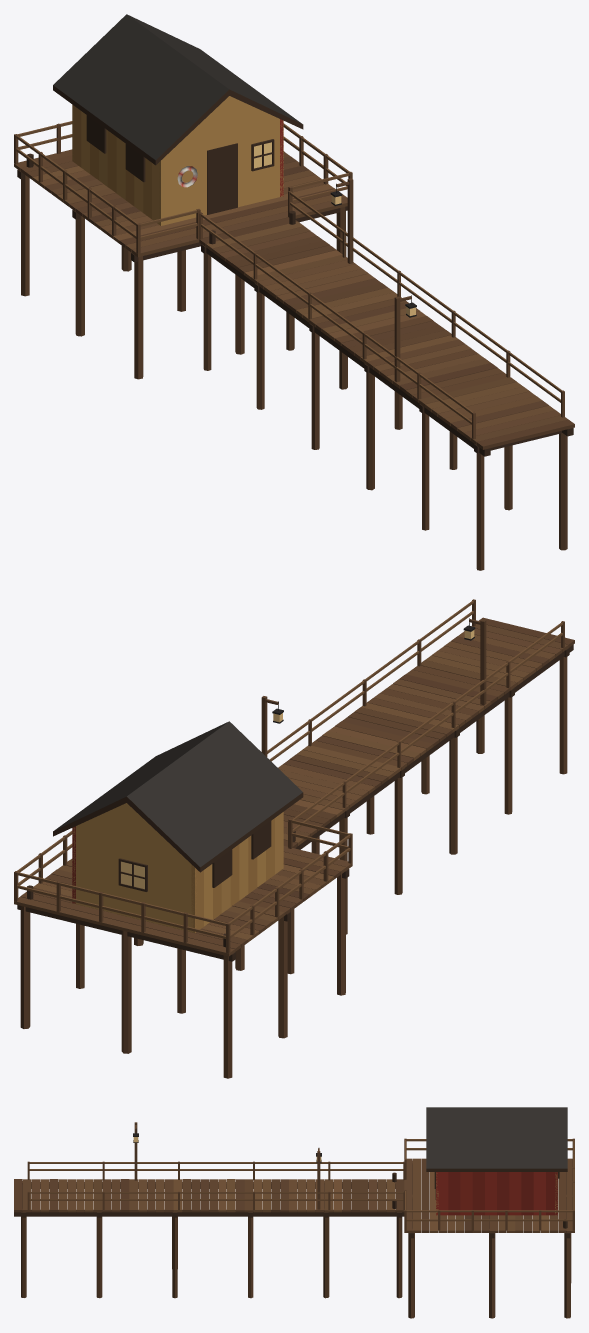
Rendered from boathouse.glb.
The picture shows the model from 3 angles, top to bottom: view 1: azimuth 30°, elevation 25°; view 2: azimuth 150°, elevation 25°; view 3: azimuth 270°, elevation 25°; orthographic projection. The views are drawn at different scales.
Visible parts, largest first — view 1: boathouse; view 2: boathouse; view 3: boathouse.
Part boxes in pixels (bbox=[...]): boathouse: bbox=[14, 14, 574, 570]; boathouse: bbox=[14, 599, 574, 1078]; boathouse: bbox=[14, 1107, 574, 1318].
Size of the model in its own units: 7 by 7.95 by 23.
